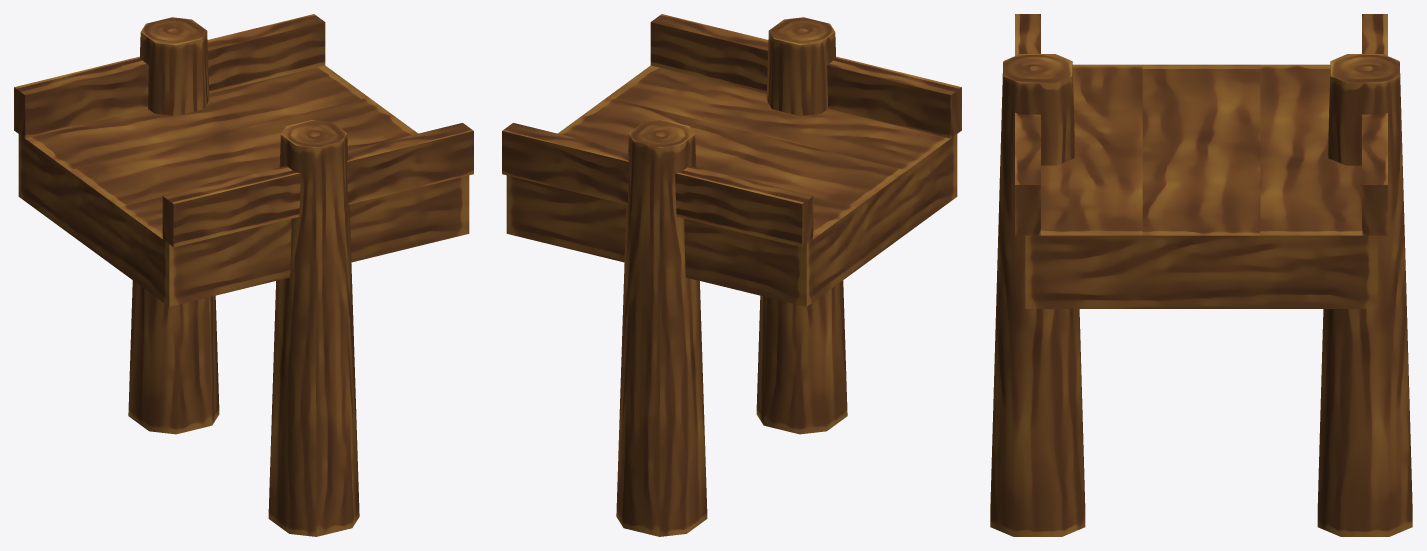
File: Wood Bridge_HD.fbx
The picture shows the model from 3 angles, left to right: view 1: azimuth 30°, elevation 25°; view 2: azimuth 150°, elevation 25°; view 3: azimuth 270°, elevation 25°; orthographic projection. The views are drawn at different scales.
Parts seen in each view (by area): view 1: WoodBridge; view 2: WoodBridge; view 3: WoodBridge.
Part boxes in pixels (x1,y1,x2,y2): WoodBridge: (14,14,473,536); WoodBridge: (502,14,961,536); WoodBridge: (990,14,1412,536).
Size of the model in its own units: 1 by 1.22 by 1.04.
